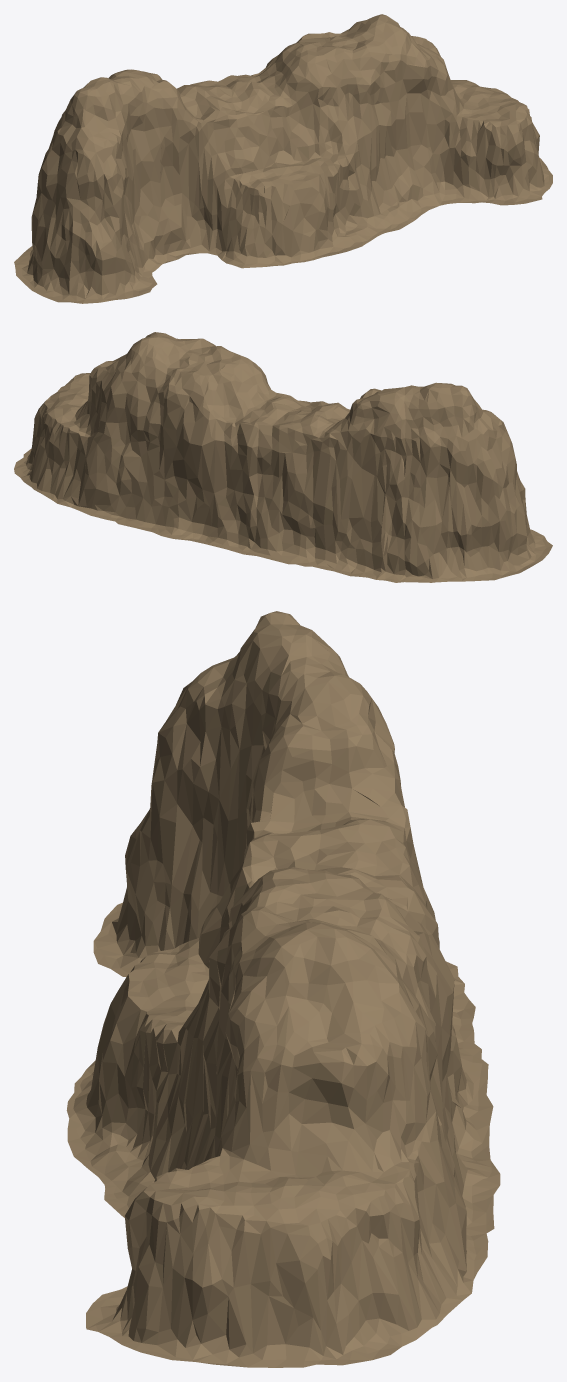
File: Cliff04.fbx
The picture shows the model from 3 angles, top to bottom: view 1: azimuth 30°, elevation 25°; view 2: azimuth 150°, elevation 25°; view 3: azimuth 270°, elevation 25°; orthographic projection. The views are drawn at different scales.
Parts seen in each view (by area): view 1: Cliff04; view 2: Cliff04; view 3: Cliff04.
Part boxes in pixels (x1,y1,x2,y2): Cliff04: (14,14,552,303); Cliff04: (14,332,552,582); Cliff04: (66,611,500,1367).
Size of the model in its own units: 187 by 60.52 by 70.48.
